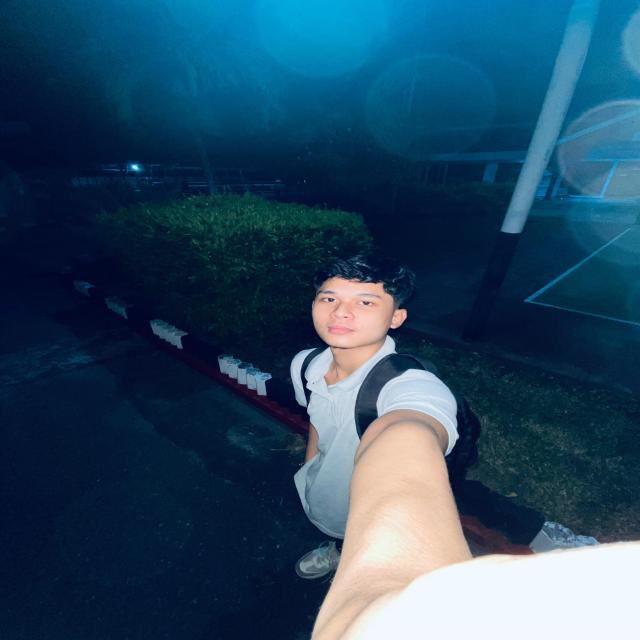nohelmet: (301, 245, 420, 357)
